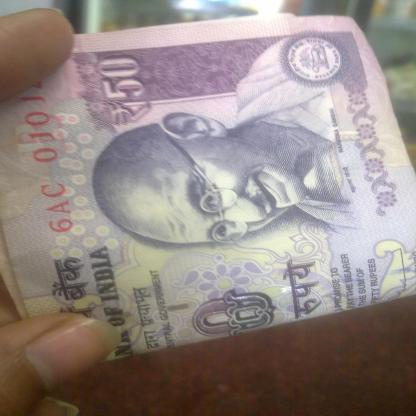Old50Front: (0, 12, 416, 361)
